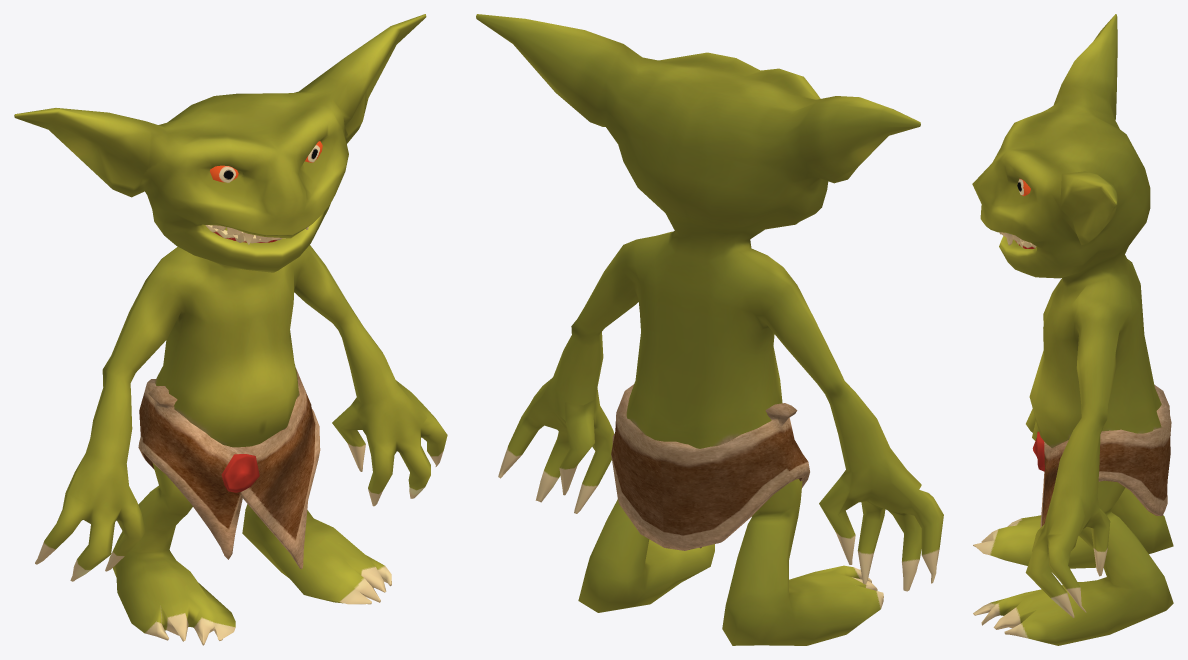
File: goblin_lowpoly.glb
3 views of the same model, side by side, from view 1: azimuth 30°, elevation 25°; view 2: azimuth 150°, elevation 25°; view 3: azimuth 270°, elevation 25° (orthographic). The views are drawn at different scales.
Parts seen in each view (by area): view 1: Goblin; view 2: Goblin; view 3: Goblin.
Part boxes in pixels (box(x1,y1,x2,y2)): Goblin: box(14, 14, 447, 645); Goblin: box(476, 14, 943, 645); Goblin: box(972, 14, 1173, 645).
Size of the model in its own units: 0.0668 by 0.0809 by 0.0302.
Materials: 1 (1 with a texture image).
